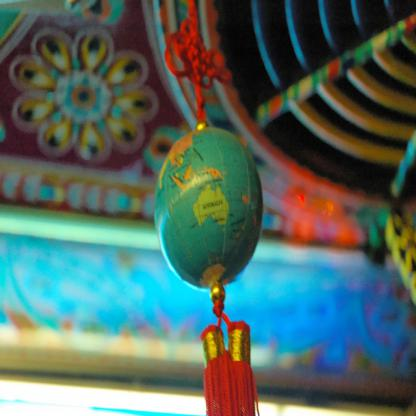Ball: (154, 126, 264, 287)
